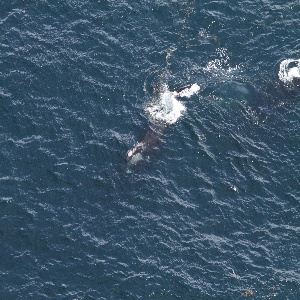cetacean: (124, 80, 195, 170)
